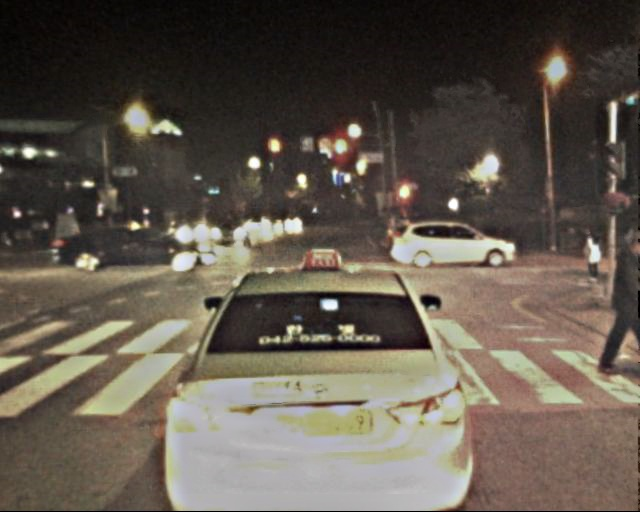person: (602, 233, 638, 369), (580, 227, 605, 288), (618, 227, 640, 285)
